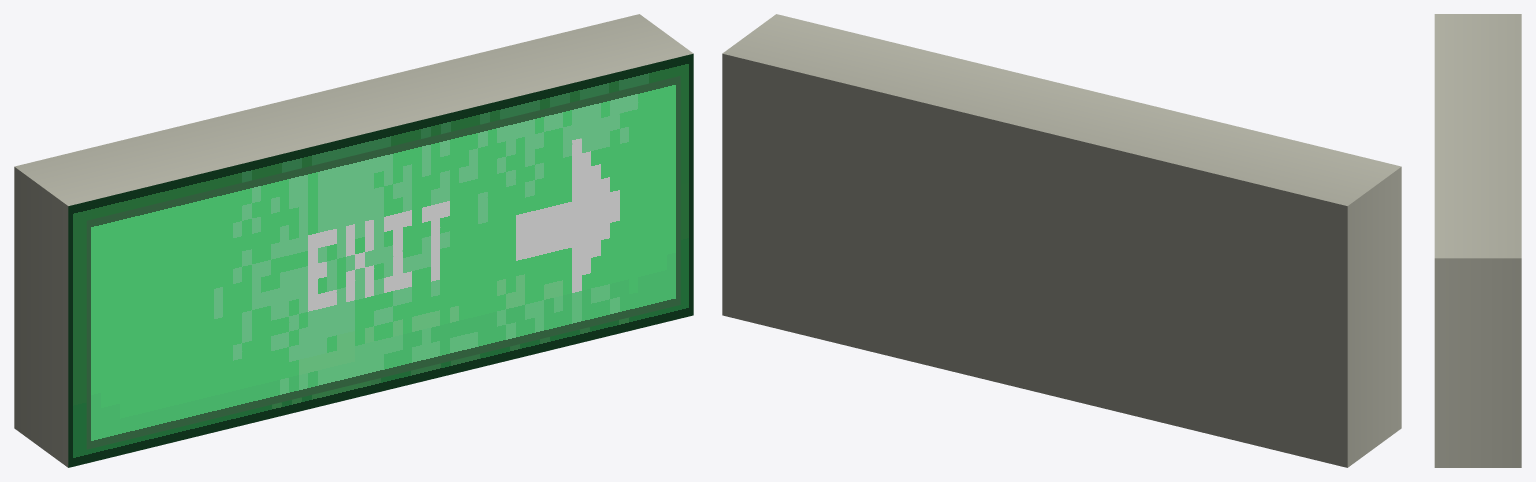
File: psx-exit-sign.glb
3 views of the same model, side by side, from view 1: azimuth 30°, elevation 25°; view 2: azimuth 150°, elevation 25°; view 3: azimuth 270°, elevation 25° (orthographic). The views are drawn at different scales.
Visible parts, largest first — view 1: exit_sign_right_lamp, exit_sign_right; view 2: exit_sign_right; view 3: exit_sign_right.
Part boxes in pixels (bbox=[...]): exit_sign_right_lamp: bbox=[86, 76, 680, 449]; exit_sign_right: bbox=[14, 14, 693, 467]; exit_sign_right: bbox=[722, 14, 1401, 467]; exit_sign_right: bbox=[1434, 14, 1521, 467].
Size of the model in its own units: 0.4 by 0.16 by 0.063.
1 material, 1 textured.
